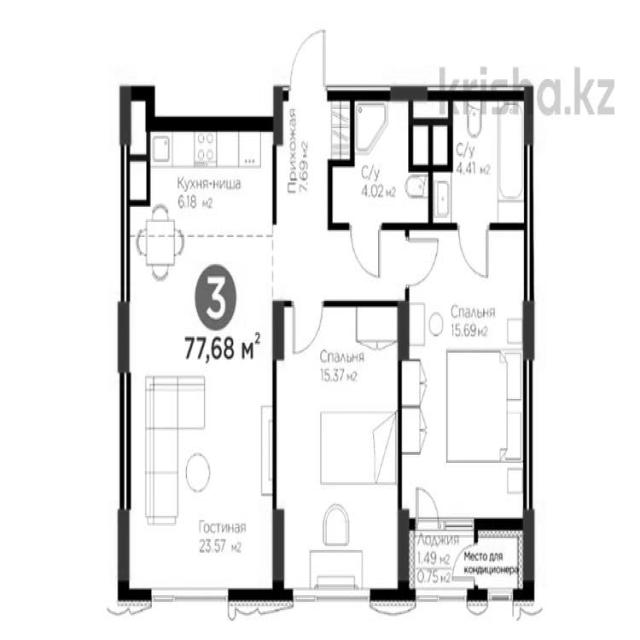balcony: (404, 526, 526, 608)
bathroom: (433, 93, 528, 237), (348, 98, 430, 242)
hallway: (279, 80, 330, 317)
living_room: (404, 228, 534, 532), (277, 302, 399, 596)
studio: (130, 124, 278, 592)
